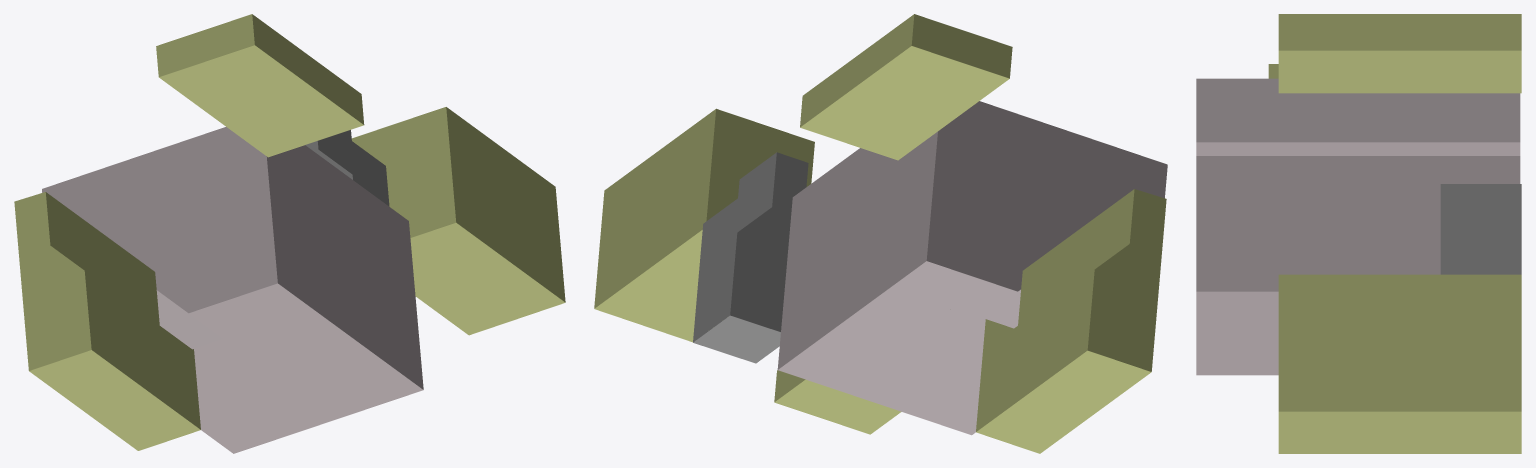
The picture shows the model from 3 angles, left to right: view 1: azimuth 30°, elevation 25°; view 2: azimuth 150°, elevation 25°; view 3: azimuth 270°, elevation 25°; orthographic projection. The views are drawn at different scales.
Visible parts, largest first — view 1: 0_2_3_3_3_1_0_1_3_0; view 2: 0_2_3_3_3_1_0_1_3_0; view 3: 0_2_3_3_3_1_0_1_3_0.
Part boxes in pixels (x1,y1,x2,y2): 0_2_3_3_3_1_0_1_3_0: [14, 14, 565, 453]; 0_2_3_3_3_1_0_1_3_0: [594, 14, 1167, 453]; 0_2_3_3_3_1_0_1_3_0: [1196, 14, 1521, 453].
Size of the model in its own units: 21.2 by 14.32 by 12.05.
